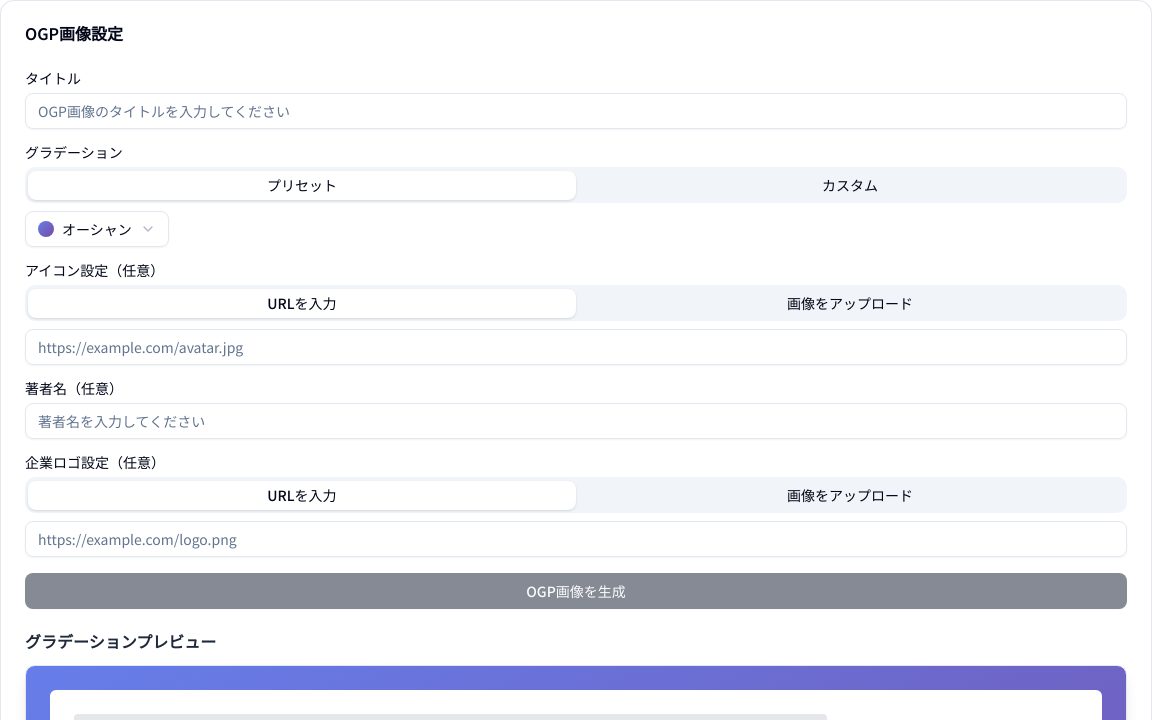
Test: OGP画像作成フォーム › 画像貼り付け機能 › ユーザーがアイコンエリアに画像を貼り付けるとき › 貼り付けた画像のプレビューが表示される
Click the 1st tab "画像をアップロード" at (850, 303), box [576, 288, 1124, 318]
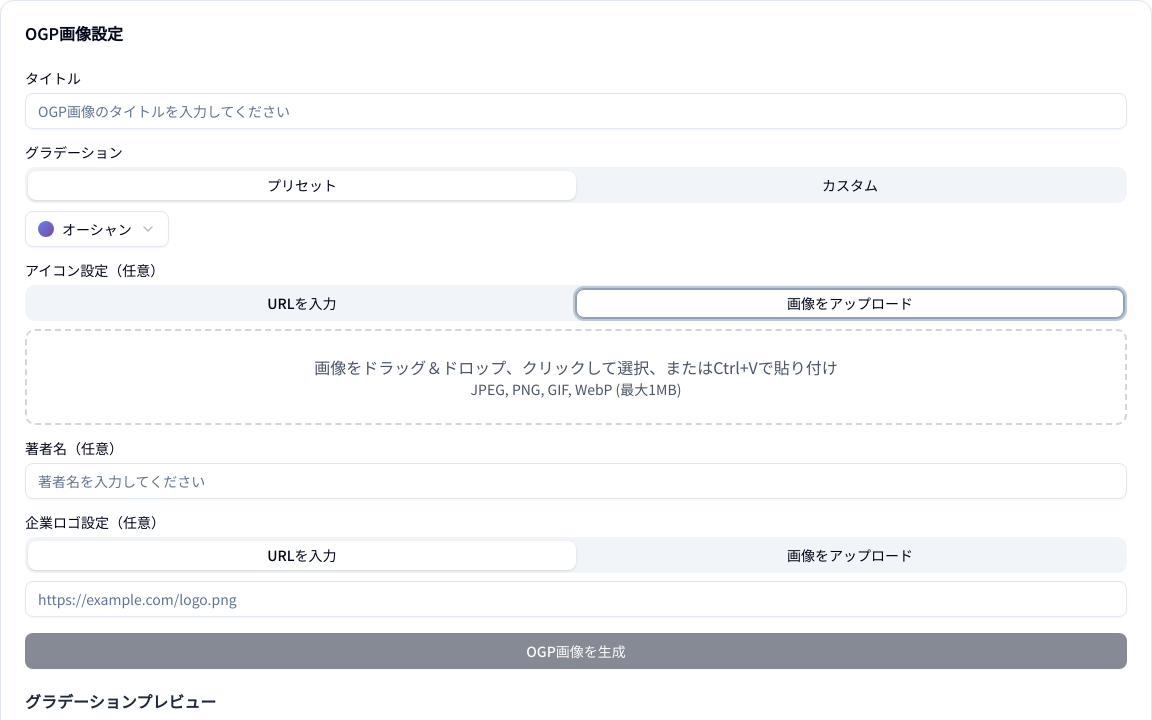
Now the text "JPEG, PNG, GIF, WebP (最大1MB)" is shown, box [471, 379, 681, 399]
